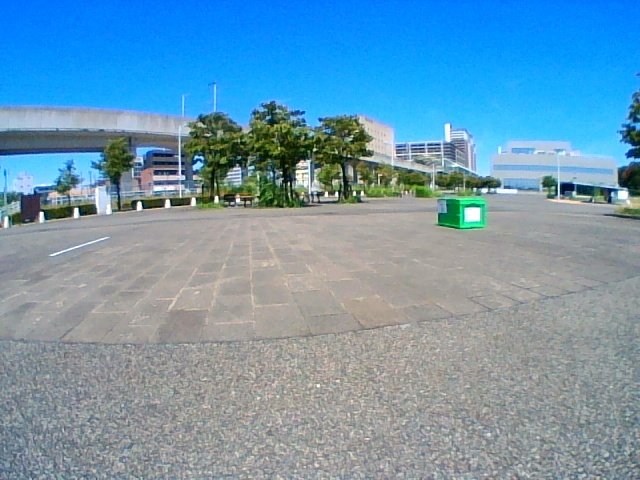green_box: (437, 198, 484, 228)
tag: (439, 200, 446, 211)
